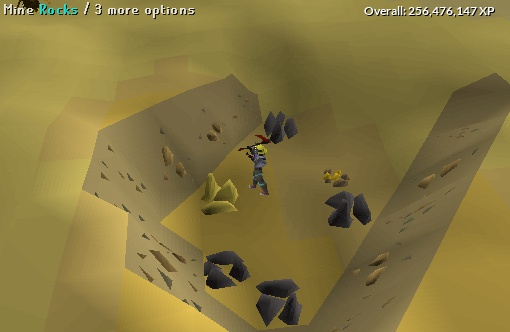depleted: (245, 275, 333, 330), (320, 186, 381, 232), (200, 246, 253, 295), (263, 109, 307, 146)
gold: (195, 173, 253, 224)
